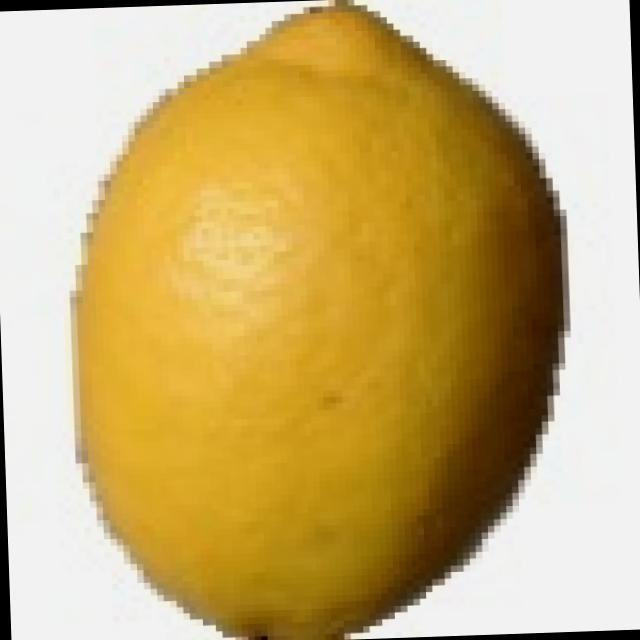lemon: (38, 0, 618, 640)
